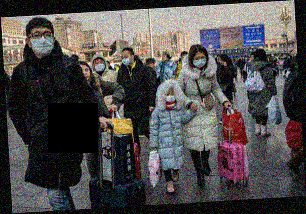with_mask: (30, 29, 54, 57), (192, 54, 208, 67), (94, 59, 107, 72), (121, 54, 133, 66), (165, 91, 178, 102)
without_mask: (81, 67, 92, 80), (218, 58, 224, 65), (161, 54, 167, 61)
